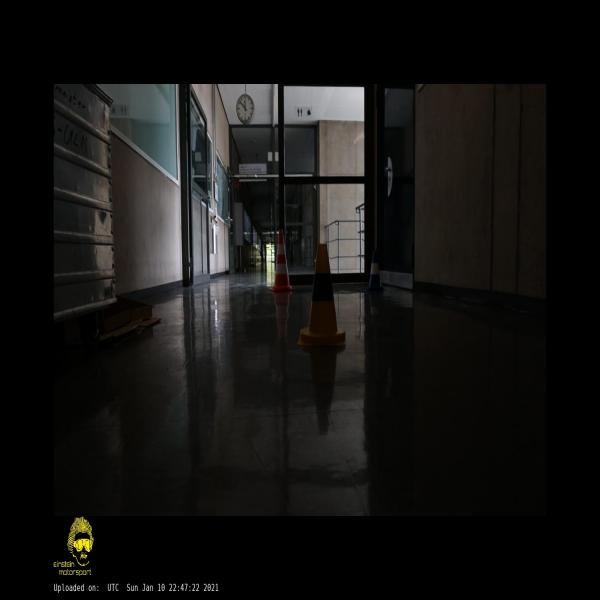blue_cone: (362, 251, 385, 292)
large_orange_cone: (269, 228, 294, 292)
yellow_cone: (298, 243, 346, 346)
